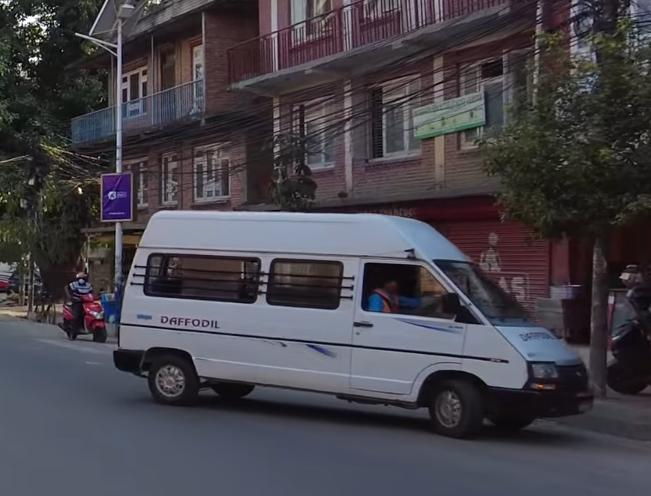micro_bus: (115, 198, 597, 444)
scooter: (54, 291, 111, 346)
